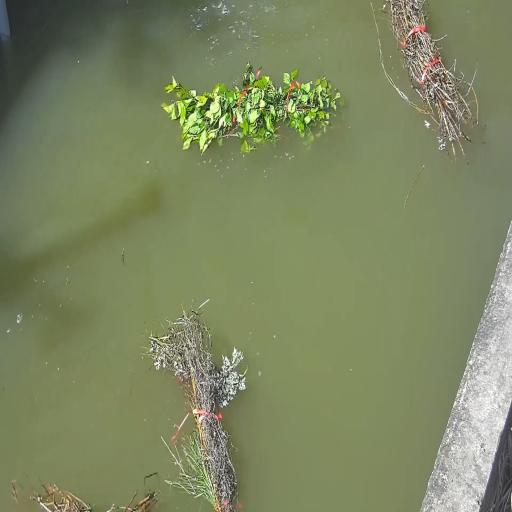twig: (147, 302, 247, 512), (162, 62, 343, 154), (372, 0, 477, 154), (34, 485, 93, 512), (107, 491, 158, 512)
